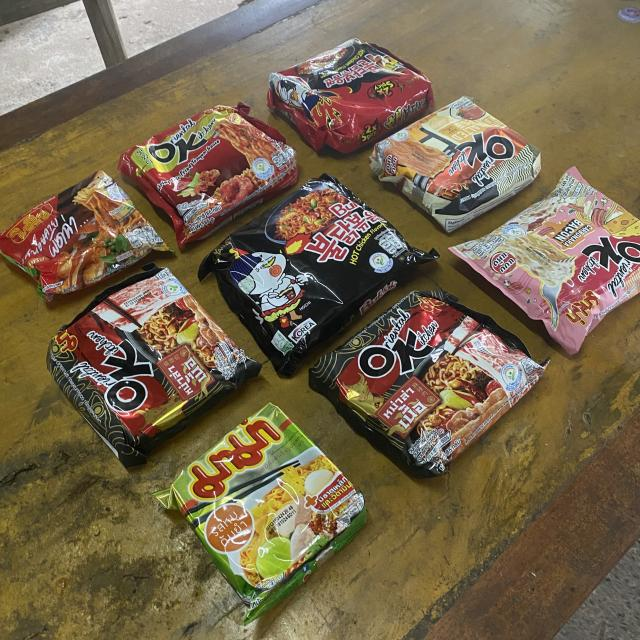plastik: (199, 175, 438, 376), (155, 404, 366, 624), (310, 291, 546, 478), (48, 265, 260, 468), (451, 166, 640, 354), (119, 104, 298, 248), (370, 96, 540, 231), (0, 171, 169, 301), (268, 39, 434, 154), (440, 325, 544, 394)
